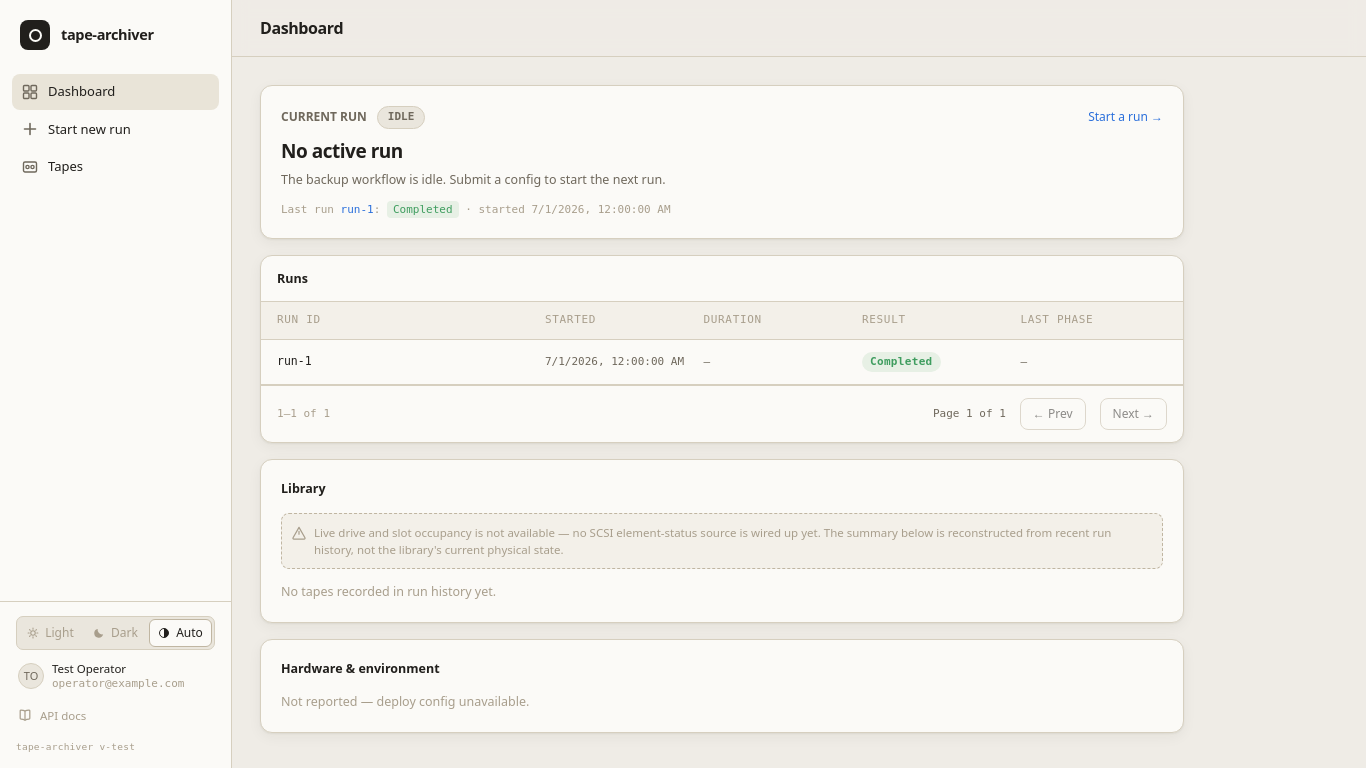
Test case: App shell (authenticated) › navigates from a history row straight to that run detail view
Expected: the navigation bar named "Main" is shown, [0,68,231,188]
Click the link "run-1" at x=294, y=361, box [261,340,1183,385]
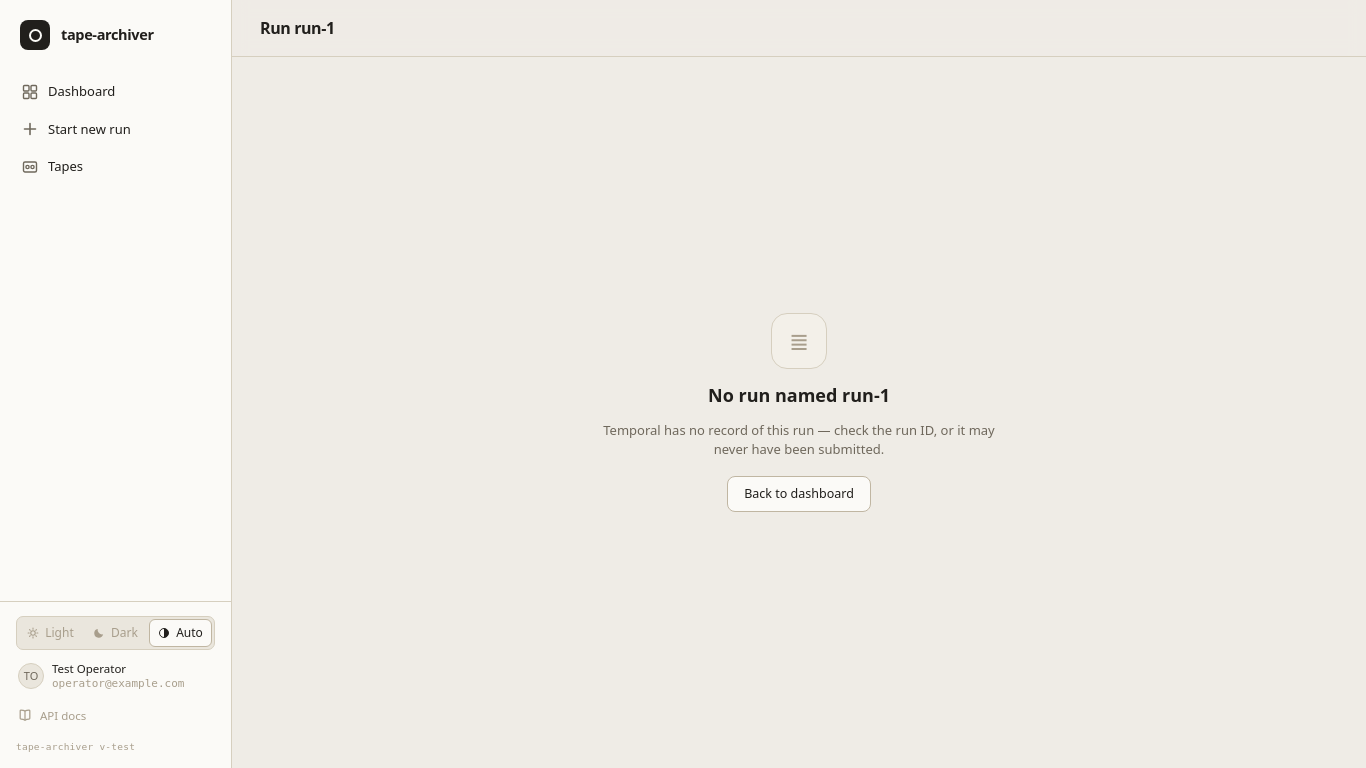
Expected: the text "Run run-1" is shown, [260,16,335,40]
